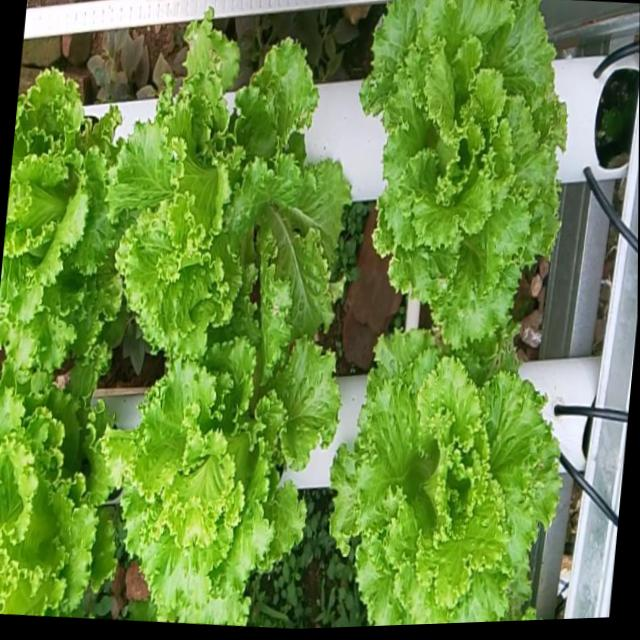Mature: (104, 9, 346, 342), (108, 304, 334, 624), (355, 0, 560, 345), (324, 321, 553, 626), (0, 55, 114, 358), (0, 353, 109, 616)
